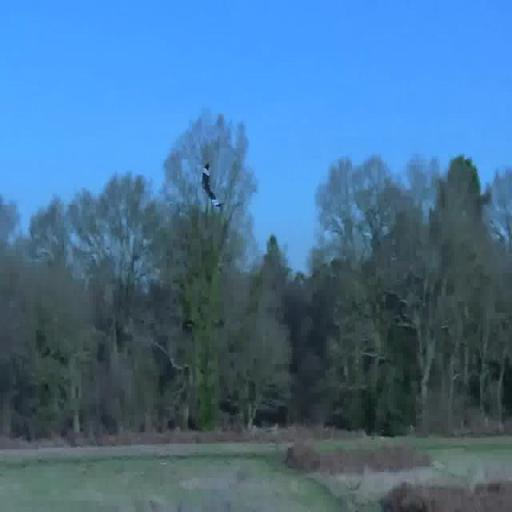uav: (200, 161, 226, 220)
